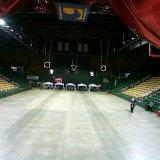Yellow_Circle_GShape: (100, 64, 107, 72)
Yellow_Square_GShape: (44, 61, 50, 69)
Yellow_Triangle_Gshape: (71, 64, 78, 72)
